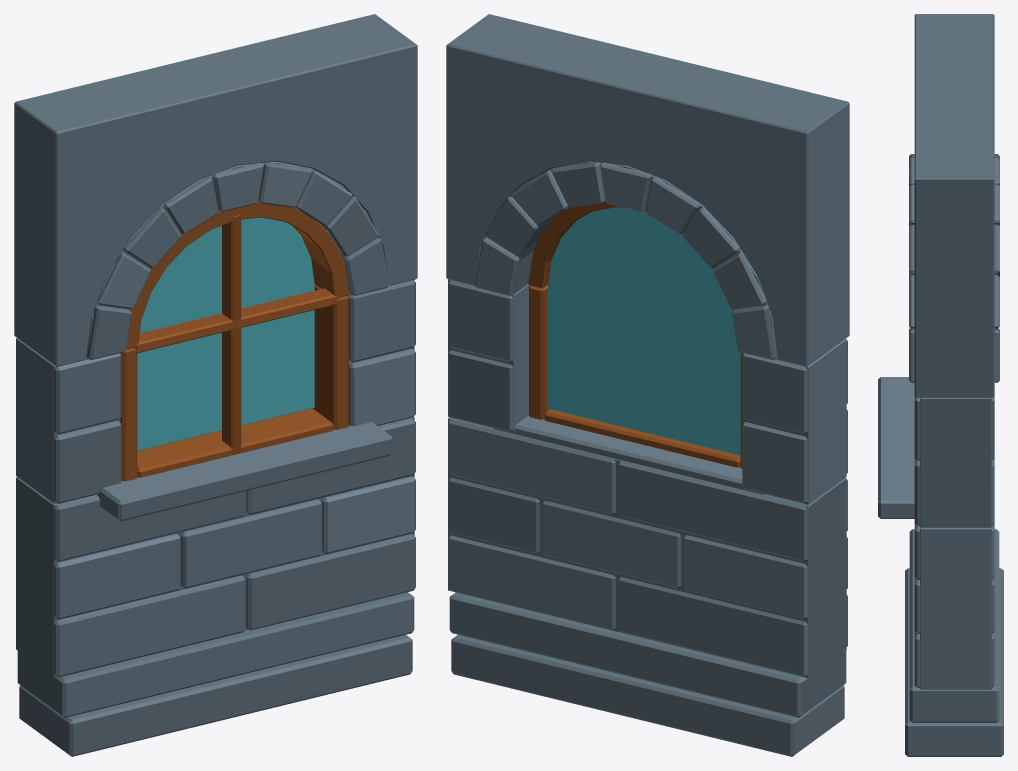
Rendered from EH_ArchedWindow_2m.fbx.
The picture shows the model from 3 angles, left to right: view 1: azimuth 30°, elevation 25°; view 2: azimuth 150°, elevation 25°; view 3: azimuth 270°, elevation 25°; orthographic projection. The views are drawn at different scales.
Parts seen in each view (by area): view 1: EH_ArchedWindow_2m; view 2: EH_ArchedWindow_2m; view 3: EH_ArchedWindow_2m.
Boxes of the visible parts, x1,y1,x2,y2 form: EH_ArchedWindow_2m: (14,14,417,756); EH_ArchedWindow_2m: (446,14,849,756); EH_ArchedWindow_2m: (878,14,1003,756).
Bounding box in the file's own units: 1.66 × 2.74 × 0.535.
